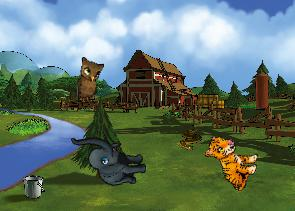elephant: (71, 126, 148, 192)
owl: (76, 56, 106, 104)
tiger: (197, 132, 263, 193)
